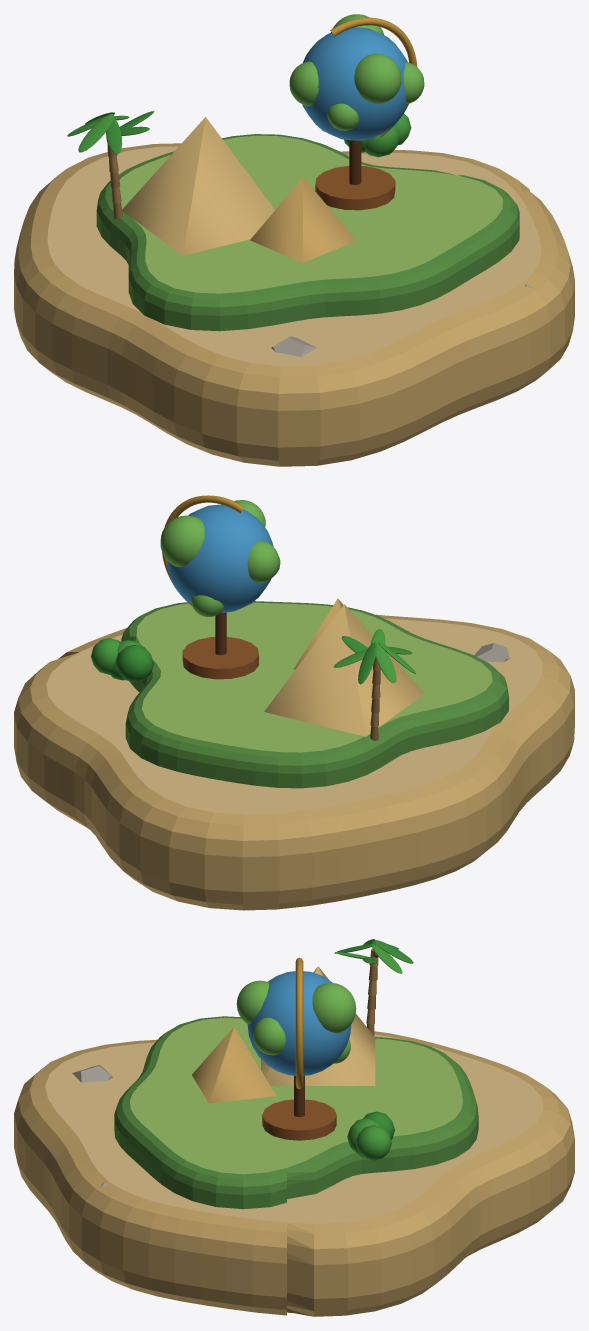
The model's file is atlas.glb.
The picture shows the model from 3 angles, top to bottom: view 1: azimuth 30°, elevation 25°; view 2: azimuth 150°, elevation 25°; view 3: azimuth 270°, elevation 25°; orthographic projection. The views are drawn at different scales.
Parts seen in each view (by area): view 1: part_000, part_002, part_004, part_006, part_007, part_005, part_008; view 2: part_000, part_002, part_004, part_006, part_007, part_005; view 3: part_000, part_002, part_004, part_007, part_006, part_005, part_008.
Part boxes in pixels (box(x1,y1,x2,y2)): part_000: box(14, 134, 574, 466); part_002: box(122, 117, 395, 262); part_004: box(289, 14, 424, 140); part_006: box(67, 111, 154, 218); part_007: box(344, 113, 411, 157); part_005: box(330, 17, 416, 136); part_008: box(271, 336, 316, 356); part_000: box(14, 601, 574, 910); part_002: box(182, 598, 424, 736); part_004: box(160, 500, 280, 616); part_006: box(334, 629, 415, 740); part_007: box(91, 638, 153, 682); part_005: box(162, 495, 244, 605); part_000: box(14, 1016, 574, 1316); part_002: box(192, 966, 375, 1140); part_004: box(236, 971, 356, 1075); part_007: box(347, 1111, 394, 1160); part_006: box(334, 939, 413, 1035); part_005: box(295, 957, 303, 1089); part_008: box(72, 1065, 112, 1082).
Bounding box in the file's own units: 8.34 × 4.96 × 9.02.
